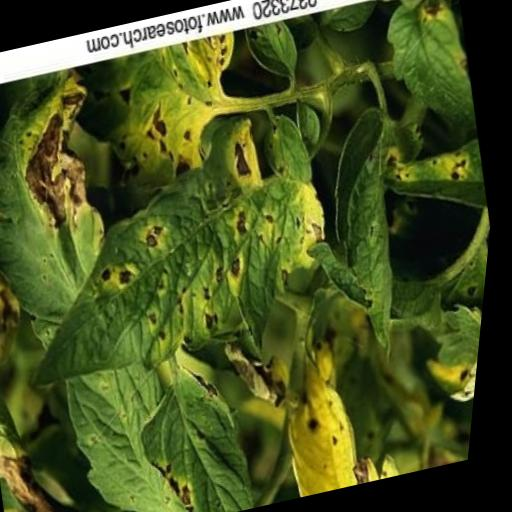Early Blight: (0, 97, 365, 410), (0, 68, 142, 341), (58, 30, 271, 208), (131, 365, 276, 512), (370, 0, 491, 154), (270, 340, 383, 500)
